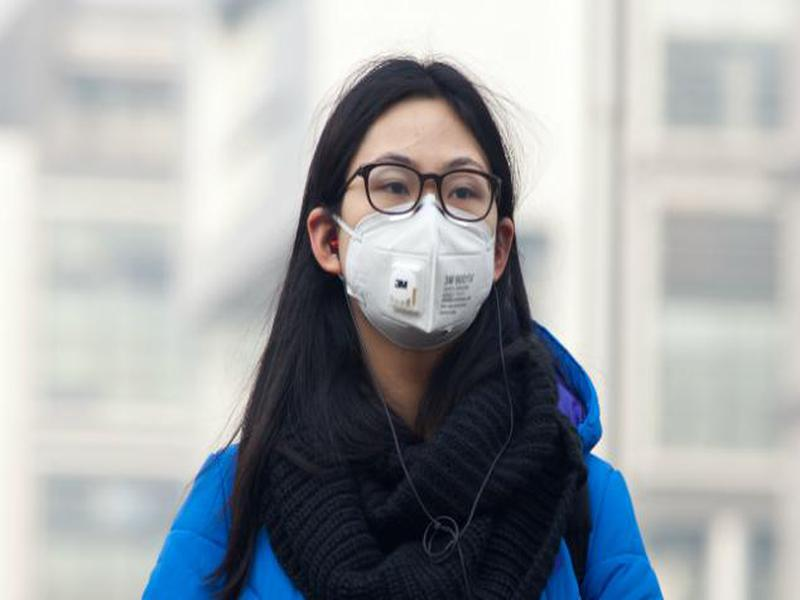with_mask: (334, 99, 503, 354)
